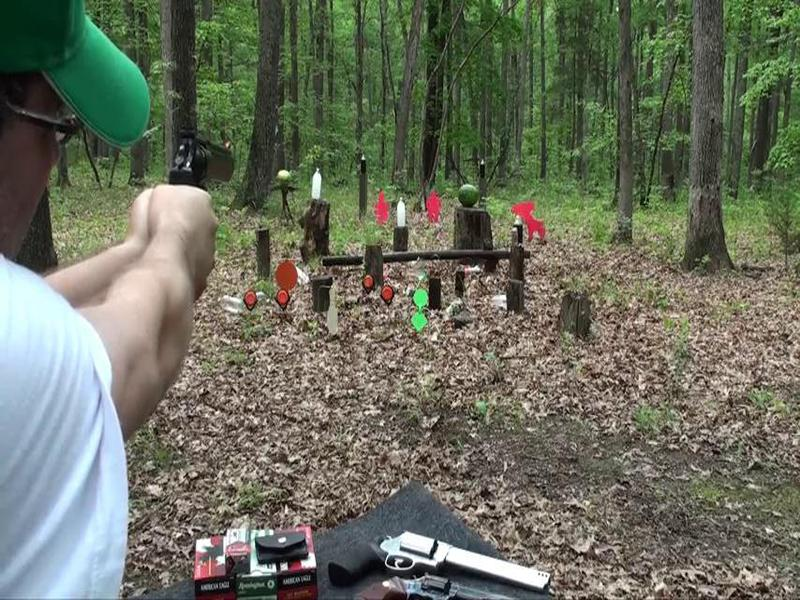Revolver: (151, 124, 249, 213)
